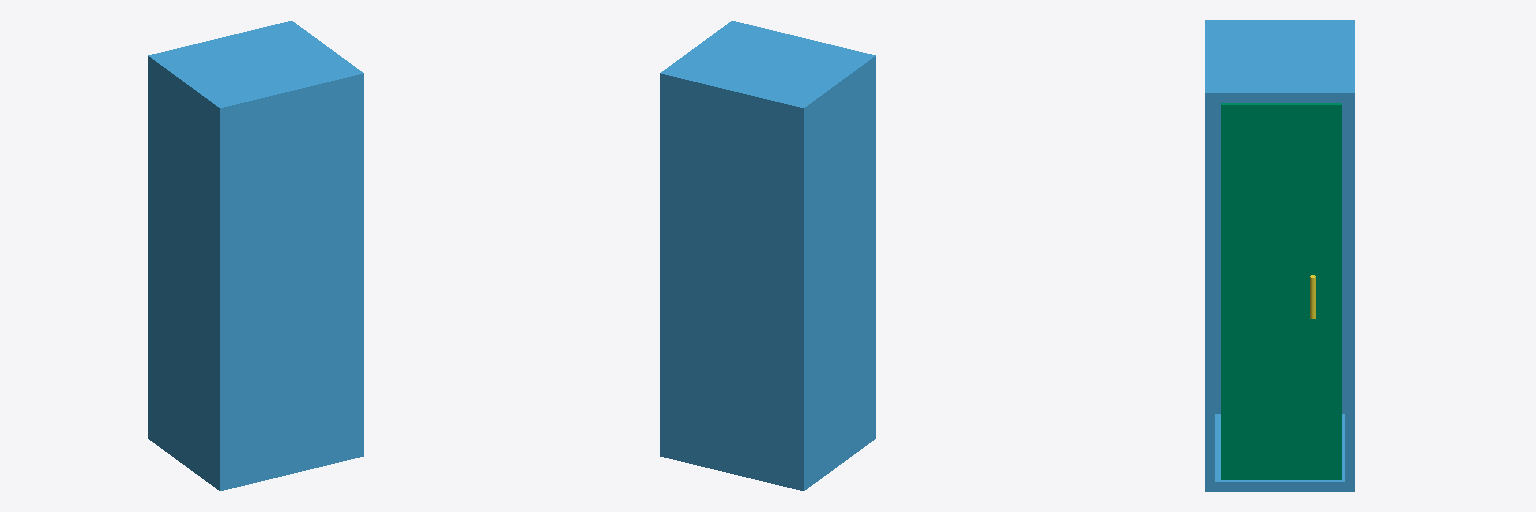
URDF robot description (my_cabinet):
<?xml version="1.0" ?>
<robot name="my_cabinet">
	<link name="world"/>
	<joint name="virtual_joint" type="fixed">
		<parent link="world"/>
		<child link="base_cabinet_link"/>
		<origin xyz="0.0 0.0 0.0" rpy="0.0 0.0 0.0"/>
	</joint>
	<link name="base_cabinet_link">
		<visual>
			<origin xyz="0.0 -0.0025 -0.3724421816154577" rpy="0.0 0.0 0.0"/>
			<geometry>
				<box size="0.3 0.26055549093672836 0.018"/>
			</geometry>
		</visual>
		<collision name="base_cabinet_link_collision_0">
			<origin xyz="0.0 -0.0025 -0.3724421816154577" rpy="0.0 0.0 0.0"/>
			<geometry>
				<box size="0.3 0.26055549093672836 0.018"/>
			</geometry>
		</collision>
		<visual>
			<origin xyz="0.0 0.11877774546836418 0.0" rpy="0.0 0.0 0.0"/>
			<geometry>
				<box size="0.3 0.018 0.7628843632309155"/>
			</geometry>
		</visual>
		<collision name="base_cabinet_link_collision_1">
			<origin xyz="0.0 0.11877774546836418 0.0" rpy="0.0 0.0 0.0"/>
			<geometry>
				<box size="0.3 0.018 0.7628843632309155"/>
			</geometry>
		</collision>
		<visual>
			<origin xyz="0.0 -0.12377774546836418 0.0" rpy="0.0 0.0 0.0"/>
			<geometry>
				<box size="0.3 0.018 0.7628843632309155"/>
			</geometry>
		</visual>
		<collision name="base_cabinet_link_collision_2">
			<origin xyz="0.0 -0.12377774546836418 0.0" rpy="0.0 0.0 0.0"/>
			<geometry>
				<box size="0.3 0.018 0.7628843632309155"/>
			</geometry>
		</collision>
		<visual>
			<origin xyz="0.0 -0.0025 0.3724421816154577" rpy="0.0 0.0 0.0"/>
			<geometry>
				<box size="0.3 0.26055549093672836 0.018"/>
			</geometry>
		</visual>
		<collision name="base_cabinet_link_collision_3">
			<origin xyz="0.0 -0.0025 0.3724421816154577" rpy="0.0 0.0 0.0"/>
			<geometry>
				<box size="0.3 0.26055549093672836 0.018"/>
			</geometry>
		</collision>
		<visual>
			<origin xyz="-0.141 -0.0025 0.0" rpy="0.0 0.0 0.0"/>
			<geometry>
				<box size="0.018 0.26055549093672836 0.7628843632309155"/>
			</geometry>
		</visual>
		<collision name="base_cabinet_link_collision_4">
			<origin xyz="-0.141 -0.0025 0.0" rpy="0.0 0.0 0.0"/>
			<geometry>
				<box size="0.018 0.26055549093672836 0.7628843632309155"/>
			</geometry>
		</collision>
		<inertial>
			<mass value="0.200000"/>
			<inertia ixx="0.010831" ixy="0.0" ixz="0.0" iyy="0.011200" iyz="0.0" izz="0.002631"/>
		</inertial>
	</link>
	<link name="door_link">
		<visual>
			<origin xyz="0.0 -0.10477774546836419 0.0"/>
			<geometry>
				<box size="0.018 0.20955549093672837 0.7168843632309154"/>
			</geometry>
		</visual>
		<collision name="door_link_collision">
			<origin xyz="0.0 -0.10477774546836419 0.0"/>
			<geometry>
				<box size="0.018 0.20955549093672837 0.7168843632309154"/>
			</geometry>
		</collision>
		<inertial>
			<mass value="0.200000"/>
			<inertia ixx="0.009297" ixy="0.0" ixz="0.0" iyy="0.008571" iyz="0.0" izz="0.000737"/>
		</inertial>
	</link>
	<joint name="door_joint" type="revolute">
		<origin xyz="0.141 -0.10477774546836419 0.0" rpy="0.000000 -0.000000 3.141593"/>
		<axis xyz="0 0 1"/>
		<parent link="base_cabinet_link"/>
		<child link="door_link"/>
		<limit effort="50" lower="-1.658062789394613" upper="0" velocity="10"/>
		<dynamics friction="3.5" damping="3.5"/>
	</joint>
	<link name="handle_link">
		<visual>
			<origin xyz="0.0 0.0 0.0" rpy="0.0 0.0 0.0"/>
			<geometry>
				<cylinder length="0.08" radius="0.005"/>
			</geometry>
		</visual>
		<collision name="handle_link_collision_0">
			<origin xyz="0.0 0.0 0.0" rpy="0.0 0.0 0.0"/>
			<geometry>
				<cylinder length="0.08" radius="0.005"/>
			</geometry>
		</collision>
		<visual>
			<origin xyz="-0.01 0.0 0.02" rpy="0.0 1.5707963267948966 0.0"/>
			<geometry>
				<cylinder length="0.02" radius="0.003"/>
			</geometry>
		</visual>
		<collision name="handle_link_collision_1">
			<origin xyz="-0.01 0.0 0.02" rpy="0.0 1.5707963267948966 0.0"/>
			<geometry>
				<cylinder length="0.01" radius="0.003"/>
			</geometry>
		</collision>
		<visual>
			<origin xyz="-0.01 0.0 -0.02" rpy="0.0 1.5707963267948966 0.0"/>
			<geometry>
				<cylinder length="0.02" radius="0.003"/>
			</geometry>
		</visual>
		<collision name="handle_link_collision_2">
			<origin xyz="-0.01 0.0 -0.02" rpy="0.0 1.5707963267948966 0.0"/>
			<geometry>
				<cylinder length="0.02" radius="0.003"/>
			</geometry>
		</collision>
		<inertial>
			<mass value="0.050000"/>
			<inertia ixx="0.000027" ixy="0.0" ixz="0.0" iyy="0.000029" iyz="0.0" izz="0.000003"/>
		</inertial>
	</link>
	<joint name="handle_joint" type="fixed">
		<origin xyz="-0.028999999999999998 -0.15955549093672838 0.0" rpy="0.000000 -0.000000 3.141593"/>
		<parent link="door_link"/>
		<child link="handle_link"/>
	</joint>
	<gazebo reference="base_cabinet_link">
		<sensor name="main_sensor" type="contact">
			<selfCollide>true</selfCollide>
			<alwaysOn>true</alwaysOn>
			<updateRate>5.0</updateRate>
			<material>Gazebo/Red</material>
			<contact>
				<collision>base_cabinet_link_collision_0_collision</collision>
				<collision>base_cabinet_link_collision_1_collision</collision>
				<collision>base_cabinet_link_collision_2_collision</collision>
				<collision>base_cabinet_link_collision_3_collision</collision>
				<collision>base_cabinet_link_collision_4_collision</collision>
			</contact>
			<plugin name="gazebo_ros_bumper_controller" filename="libgazebo_ros_bumper.so">
				<bumperTopicName>/contact</bumperTopicName>
				<frameName>world</frameName>
			</plugin>
		</sensor>
	</gazebo>
	<gazebo reference="door_link">
		<sensor name="main_sensor" type="contact">
			<selfCollide>true</selfCollide>
			<alwaysOn>true</alwaysOn>
			<updateRate>5.0</updateRate>
			<material>Gazebo/Red</material>
			<contact>
				<collision>door_link_collision_collision</collision>
			</contact>
			<plugin name="gazebo_ros_bumper_controller" filename="libgazebo_ros_bumper.so">
				<bumperTopicName>/contact_door</bumperTopicName>
				<frameName>contact_door</frameName>
			</plugin>
		</sensor>
	</gazebo>
	<gazebo reference="door_link">
		<mu>3.0</mu>
		<mu2>3.0</mu2>
		<kp>10000000</kp>
		<kd>100</kd>
	</gazebo>
</robot>

--- Facts derived from the render (not from the file) ---
Views: 3 orthographic renders of the robot side by side, from view 1: azimuth 30°, elevation 25°; view 2: azimuth 150°, elevation 25°; view 3: azimuth 270°, elevation 25°.
Model my_cabinet with 4 links and 3 joints (1 revolute, 2 fixed), rooted at world, posed all joints at 0.
Visible links, largest first — view 1: base_cabinet_link; view 2: base_cabinet_link; view 3: door_link, base_cabinet_link.
Link boxes in pixels (box(x1,y1,x2,y2)): base_cabinet_link: box(148, 21, 363, 490); base_cabinet_link: box(660, 21, 875, 490); door_link: box(1221, 103, 1341, 479); base_cabinet_link: box(1205, 20, 1354, 491).
Size in the robot's own frame: 0.325 by 0.2606 by 0.7629 metres.
Geometry: primitives only (box / cylinder / sphere), no mesh files.
